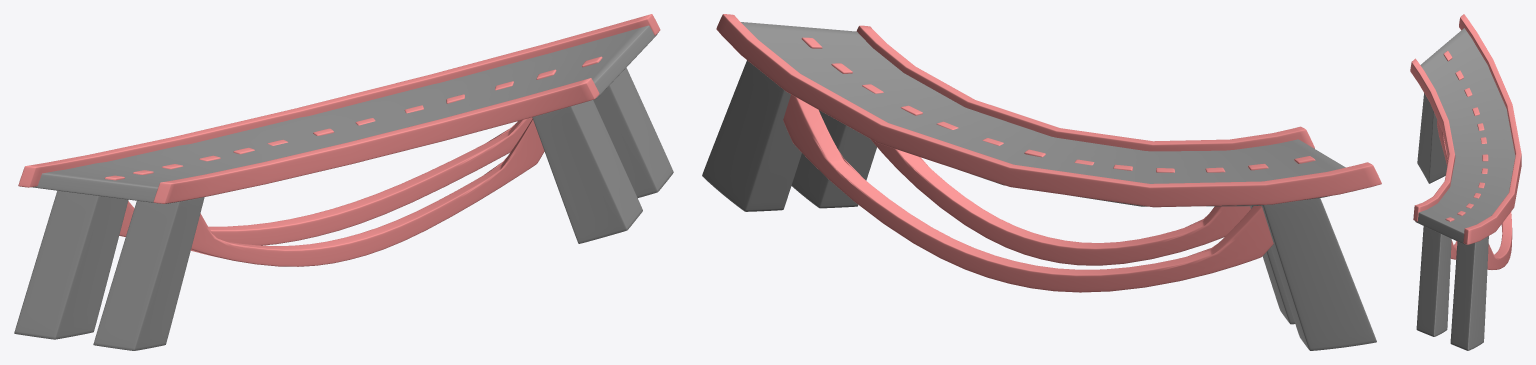
Rendered from Bridge03.FBX.
3 renders of one model, left to right at view 1: azimuth 30°, elevation 25°; view 2: azimuth 150°, elevation 25°; view 3: azimuth 270°, elevation 25°, orthographic. The views are drawn at different scales.
Parts seen in each view (by area): view 1: Level03-3; view 2: Level03-3; view 3: Level03-3.
Part boxes in pixels (<box>): Level03-3: <box>14,14,673,350</box>; Level03-3: <box>702,14,1381,350</box>; Level03-3: <box>1410,14,1521,350</box>.
Size of the model in its own units: 175 by 47.74 by 36.83.
